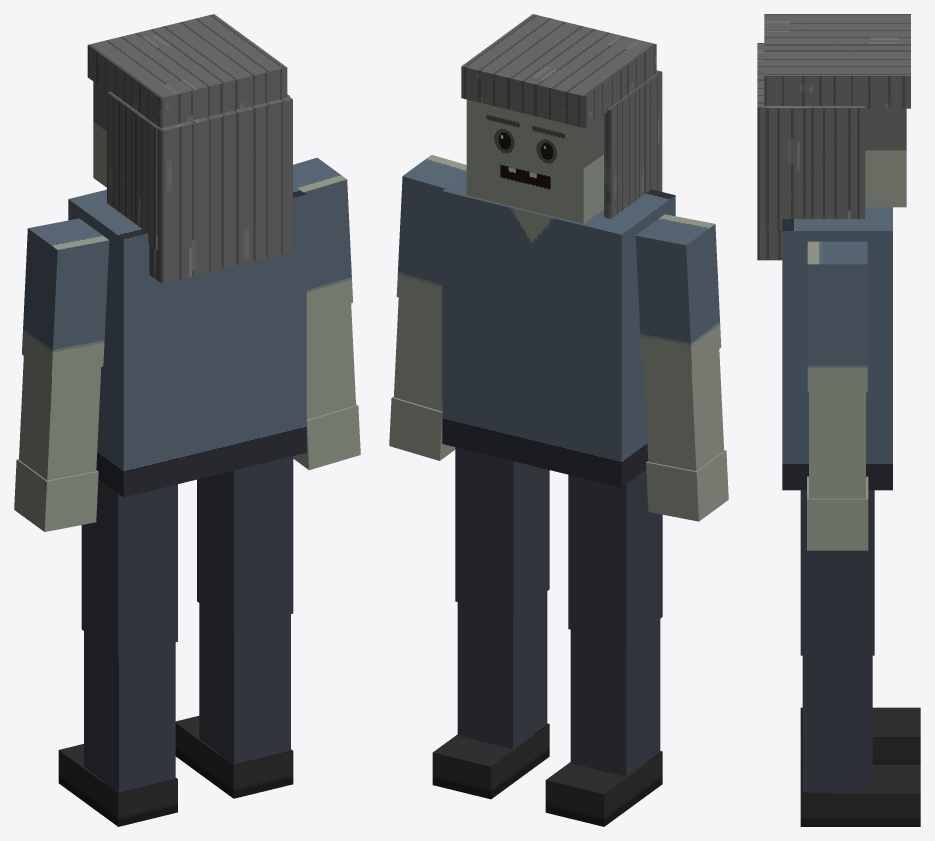
The model's file is hair_long.glb.
3 views of the same model, side by side, from view 1: azimuth 30°, elevation 25°; view 2: azimuth 150°, elevation 25°; view 3: azimuth 270°, elevation 25° (orthographic). The views are drawn at different scales.
Parts seen in each view (by area): view 1: block_torso, block_hair-long, block_hair-cap, block_thigh.L, block_thigh.R, block_shin.L, block_shin.R, block_upper_arm.L, block_forearm.L, block_upper_arm.R, block_hair-lock, block_forearm.R (+5 smaller); view 2: block_torso, block_hair-cap, block_thigh.L, block_thigh.R, block_head, block_shin.L, block_shin.R, block_upper_arm.L, block_forearm.L, block_upper_arm.R, block_hair-lock, block_foot.R (+4 smaller); view 3: block_torso, block_hair-cap, block_hair-lock, block_shin.R, block_upper_arm.R, block_thigh.R, block_forearm.R, block_foot.R, block_head, block_hand.R, block_foot.L, block_hair-long.
Boxes of the visible parts, x1,y1,x2,y2 form: block_torso: (68,185,306,497); block_hair-long: (143,96,292,283); block_hair-cap: (87,14,287,127); block_thigh.L: (81,479,177,656); block_thigh.R: (197,456,293,627); block_shin.L: (84,631,175,792); block_shin.R: (199,603,290,764); block_upper_arm.L: (22,218,109,375); block_forearm.L: (19,356,101,480); block_upper_arm.R: (293,157,352,316); block_hair-lock: (107,91,159,249); block_forearm.R: (306,303,355,419); block_torso: (442,173,675,487); block_hair-cap: (461,14,656,128); block_thigh.L: (568,470,662,643); block_thigh.R: (455,447,549,615); block_head: (466,99,603,223); block_shin.L: (570,619,660,776); block_shin.R: (457,591,547,748); block_upper_arm.L: (635,214,721,368); block_forearm.L: (643,349,723,470); block_upper_arm.R: (396,155,466,309); block_hair-lock: (604,74,659,218); block_foot.R: (432,723,549,799); block_torso: (782,207,892,490); block_hair-cap: (764,14,910,108); block_hair-lock: (765,106,865,229); block_shin.R: (802,655,872,792); block_upper_arm.R: (807,241,867,392); block_thigh.R: (800,490,874,655); block_forearm.R: (809,392,865,498); block_foot.R: (800,764,920,826); block_head: (865,108,906,207); block_hand.R: (807,476,868,550); block_foot.L: (800,707,920,764); block_hair-long: (757,43,795,260).
Bounding box in the file's own units: 0.7948 × 1.77 × 0.354.
Materials: 1 (1 with a texture image).
